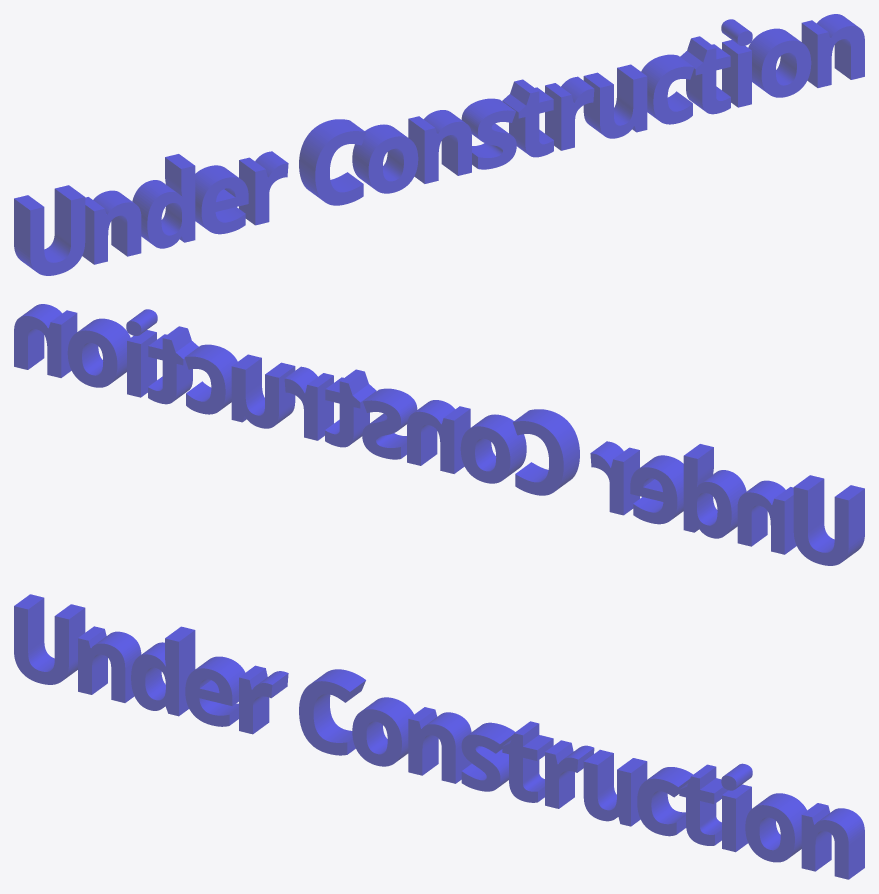
File: construction.gltf
3 renders of one model, top to bottom at view 1: azimuth 30°, elevation 25°; view 2: azimuth 150°, elevation 25°; view 3: azimuth 330°, elevation 25°, orthographic.
Visible parts, largest first — view 1: 3D Text - n (×3), 3D Text - o (×2), 3D Text - t (×2), 3D Text - U, 3D Text - r (×2), 3D Text - d, 3D Text - C, 3D Text - u, 3D Text - e, 3D Text - s, 3D Text - c, 3D Text - i; view 2: 3D Text - n (×3), 3D Text - o (×2), 3D Text - t (×2), 3D Text - U, 3D Text - r (×2), 3D Text - d, 3D Text - C, 3D Text - u, 3D Text - e, 3D Text - s, 3D Text - c, 3D Text - i; view 3: 3D Text - n (×3), 3D Text - o (×2), 3D Text - t (×2), 3D Text - U, 3D Text - r (×2), 3D Text - d, 3D Text - u, 3D Text - C, 3D Text - e, 3D Text - s, 3D Text - c, 3D Text - i.
Boxes of the visible parts, <box> form: 3D Text - n (×3): <box>82,14,864,264</box>; 3D Text - o (×2): <box>352,28,811,193</box>; 3D Text - t (×2): <box>502,36,730,157</box>; 3D Text - U: <box>14,185,85,275</box>; 3D Text - r (×2): <box>239,76,594,225</box>; 3D Text - d: <box>132,154,195,248</box>; 3D Text - C: <box>299,119,365,205</box>; 3D Text - u: <box>583,64,647,138</box>; 3D Text - e: <box>195,165,248,234</box>; 3D Text - s: <box>461,98,516,169</box>; 3D Text - c: <box>641,54,694,124</box>; 3D Text - i: <box>721,19,752,107</box>; 3D Text - n (×3): <box>14,304,796,554</box>; 3D Text - o (×2): <box>67,318,526,483</box>; 3D Text - t (×2): <box>148,326,376,447</box>; 3D Text - U: <box>793,475,864,565</box>; 3D Text - r (×2): <box>284,366,639,515</box>; 3D Text - d: <box>683,444,746,538</box>; 3D Text - C: <box>513,409,579,495</box>; 3D Text - u: <box>231,354,295,428</box>; 3D Text - e: <box>630,455,683,524</box>; 3D Text - s: <box>362,388,417,459</box>; 3D Text - c: <box>184,344,237,414</box>; 3D Text - i: <box>126,309,157,397</box>; 3D Text - n (×3): <box>78,626,864,879</box>; 3D Text - o (×2): <box>352,697,806,862</box>; 3D Text - t (×2): <box>502,721,728,845</box>; 3D Text - U: <box>14,594,85,684</box>; 3D Text - r (×2): <box>239,665,594,808</box>; 3D Text - d: <box>131,626,195,716</box>; 3D Text - u: <box>583,749,647,826</box>; 3D Text - C: <box>299,669,365,755</box>; 3D Text - e: <box>185,656,245,726</box>; 3D Text - s: <box>461,722,514,791</box>; 3D Text - c: <box>637,767,692,836</box>; 3D Text - i: <box>721,763,752,852</box>.
Bounding box in the file's own units: 0.4451 × 0.0385 × 0.015.
